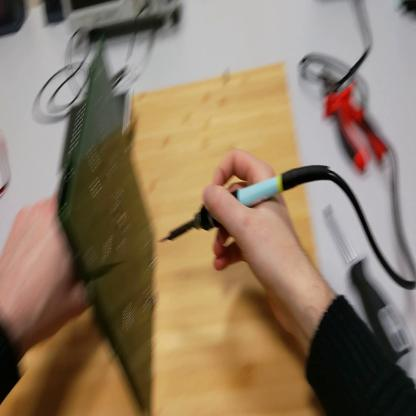hand: (204, 152, 311, 334), (3, 190, 89, 348)
low voltage board: (58, 41, 165, 404)
oscilloscope: (63, 1, 182, 44)
oscilloscope probe tip: (110, 61, 132, 88)
pliers: (322, 63, 391, 174)
screwdriver-: (325, 206, 414, 375)
socket: (3, 3, 26, 36), (45, 3, 66, 26)
welder probe tip: (163, 166, 335, 246)
working area: (2, 62, 318, 416)
